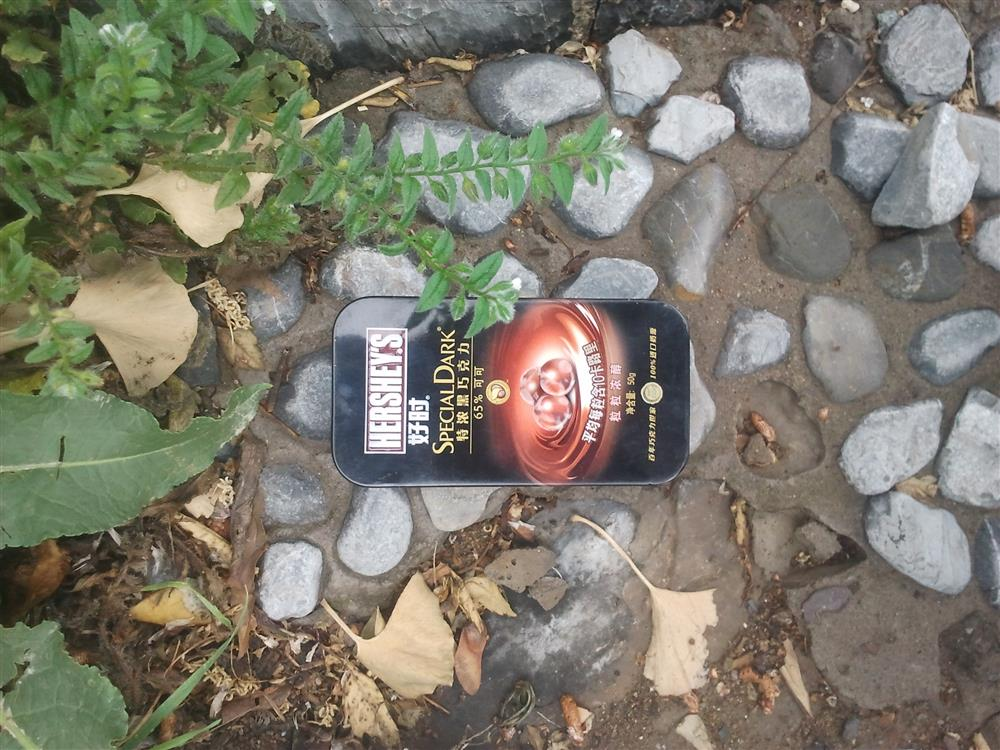hersheys: (304, 262, 707, 502)
